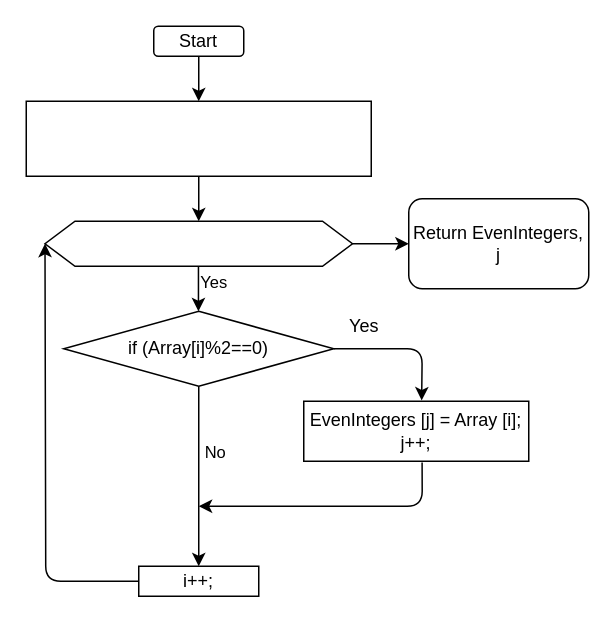
This 615x623 diagram has some shape labels left out. Each missing label, with the centre of its shape:
for (int i=0; i < Array.Length; i++;): the point at 198,243
int [] Array = GetArray; int [] EvenIntegers = new (Array.Length); int j=0;: the point at 198,138
